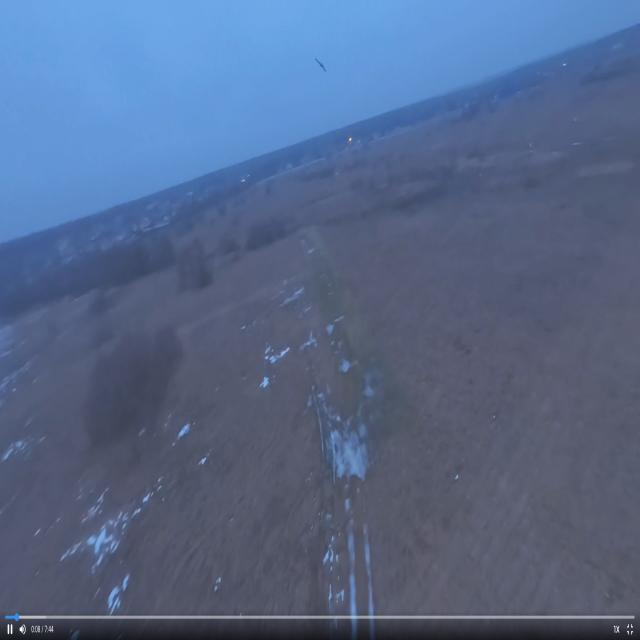planedrone: (313, 54, 328, 73)
